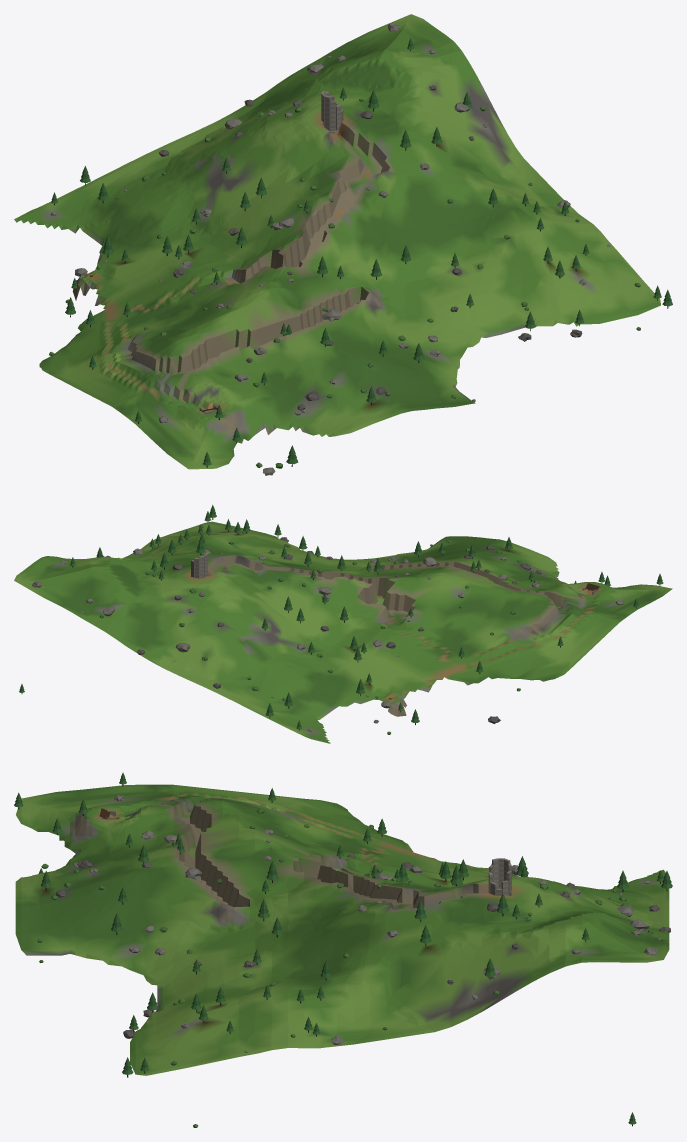
Rendered from arch_isl_lantern_rock_lod1.glb.
3 renders of one model, top to bottom at view 1: azimuth 30°, elevation 25°; view 2: azimuth 150°, elevation 25°; view 3: azimuth 270°, elevation 25°, orthographic. The views are drawn at different scales.
Parts seen in each view (by area): view 1: geometry_0; view 2: geometry_0; view 3: geometry_0.
Part boxes in pixels (box(x1,y1,x2,y2)): geometry_0: box(14, 14, 672, 475); geometry_0: box(14, 504, 672, 743); geometry_0: box(14, 772, 672, 1127).
Size of the model in its own units: 242 by 73.35 by 242.
